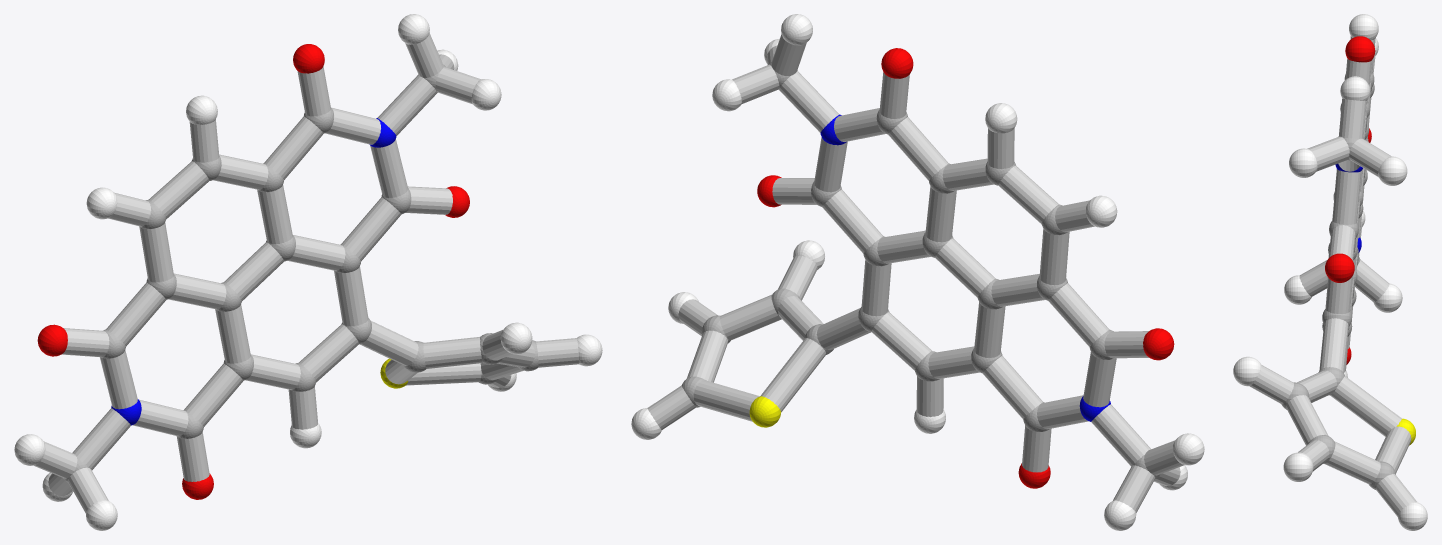
File: Dimethyl_Naphthalene_Dicarboximide_Phi_20_Theta_60_Thiophene.glb
3 renders of one model, left to right at view 1: azimuth 30°, elevation 25°; view 2: azimuth 150°, elevation 25°; view 3: azimuth 270°, elevation 25°, orthographic. The views are drawn at different scales.
Parts seen in each view (by area): view 1: grp14119, grp7241, grp1, grp12309, grp11585; view 2: grp14119, grp7241, grp1, grp12309, grp13757, grp11585; view 3: grp14119, grp7241, grp1, grp12309.
Part boxes in pixels (x1=…): grp14119: x1=34, y1=33, x2=579, y2=513; grp7241: x1=14, y1=14, x2=602, y2=530; grp1: x1=63, y1=64, x2=538, y2=482; grp12309: x1=37, y1=44, x2=469, y2=499; grp11585: x1=111, y1=118, x2=396, y2=425; grp14119: x1=647, y1=34, x2=1184, y2=513; grp7241: x1=631, y1=14, x2=1204, y2=530; grp1: x1=682, y1=62, x2=1160, y2=478; grp12309: x1=757, y1=48, x2=1174, y2=488; grp13757: x1=749, y1=396, x2=781, y2=427; grp11585: x1=820, y1=114, x2=1110, y2=421; grp14119: x1=1249, y1=36, x2=1416, y2=516; grp7241: x1=1233, y1=14, x2=1427, y2=530; grp1: x1=1281, y1=73, x2=1395, y2=489; grp12309: x1=1325, y1=36, x2=1375, y2=364.
Bounding box in the file's own units: 12.06 × 8.84 × 3.91.
